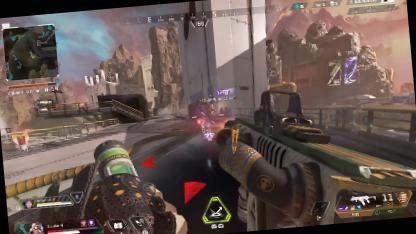Target: (196, 102, 214, 133)
